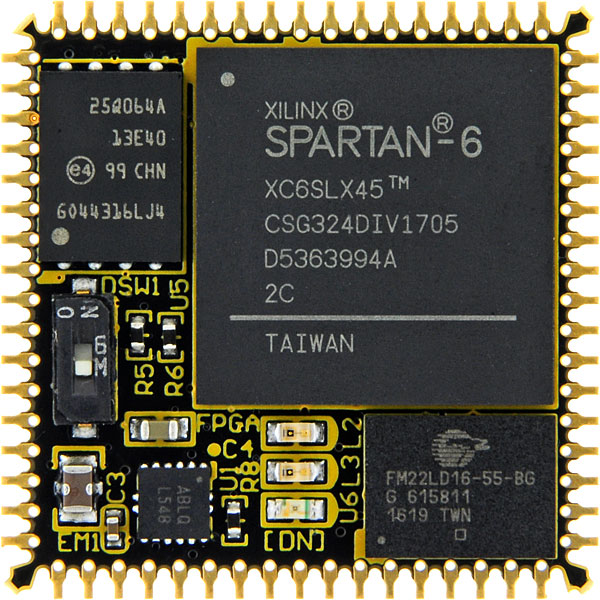capacitor C3: (104, 506, 126, 555)
capacitor C4: (126, 415, 195, 445)
component text" "25Q064A 13E40 e4 99 CHN 6044316LJ4: (49, 89, 171, 229)
component text" "6 M: (93, 332, 108, 383)
component text" "ABLQ L548: (154, 483, 193, 531)
component text" "FM22LD16-55-BG G 615811 1619 TWN: (382, 466, 538, 525)
component text" "O N: (55, 303, 104, 322)
component text" "XILINX SPARTAN-6 XC6SLX45TM CSG324DIV1705 D5363994A 2C TAIWAN: (254, 87, 490, 363)
connector unknown: (45, 557, 555, 600), (557, 45, 600, 553), (47, 1, 554, 43), (1, 46, 42, 555)
ic FPGA: (196, 49, 553, 408)
ic U1: (137, 463, 210, 543)
ic U5: (41, 61, 182, 274)
ic U6: (364, 414, 557, 557)
led L1: (265, 497, 328, 521)
led L2: (263, 417, 328, 444)
led L3: (261, 458, 328, 486)
resistor R5: (125, 311, 149, 359)
resistor R6: (157, 313, 183, 363)
resistor R8: (222, 496, 245, 547)
switch DSW1: (50, 296, 116, 420)
text "[DN]: (261, 529, 326, 553)
text C3: (106, 473, 127, 506)
text C4: (207, 437, 252, 461)
text DSW1: (102, 275, 159, 298)
text EM1: (56, 530, 101, 555)
text FPGA: (196, 412, 260, 440)
text L2: (339, 415, 363, 455)
text L3: (336, 455, 360, 490)
text R5: (129, 359, 153, 397)
text R6: (158, 362, 188, 404)
text R8: (244, 457, 261, 497)
text U1: (216, 465, 239, 494)
text U5: (166, 277, 191, 312)
text U6: (336, 490, 359, 530)
unknown EM1: (54, 449, 102, 532)
